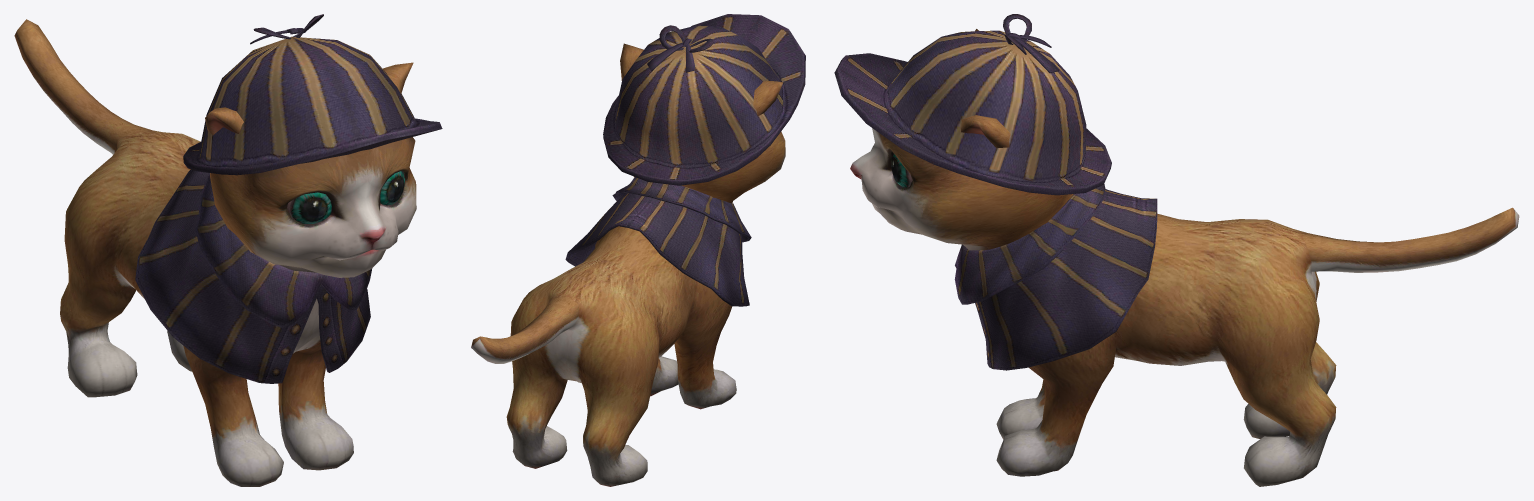
File: cats.glb
3 views of the same model, side by side, from view 1: azimuth 30°, elevation 25°; view 2: azimuth 150°, elevation 25°; view 3: azimuth 270°, elevation 25° (orthographic). The views are drawn at different scales.
Parts seen in each view (by area): view 1: Object_2, Object_3; view 2: Object_2; view 3: Object_2.
Boxes of the visible parts, bbox=[...] form: Object_2: bbox=[14, 14, 442, 486]; Object_3: bbox=[287, 171, 405, 223]; Object_2: bbox=[471, 14, 805, 486]; Object_2: bbox=[834, 14, 1519, 486].
Size of the model in its own units: 0.1202 by 0.2582 by 0.3712.
2 materials, 2 textured.
